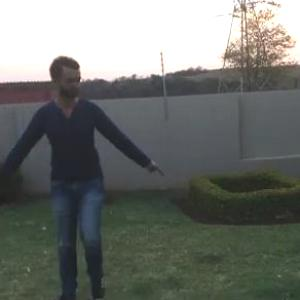land: (1, 25, 224, 299)
